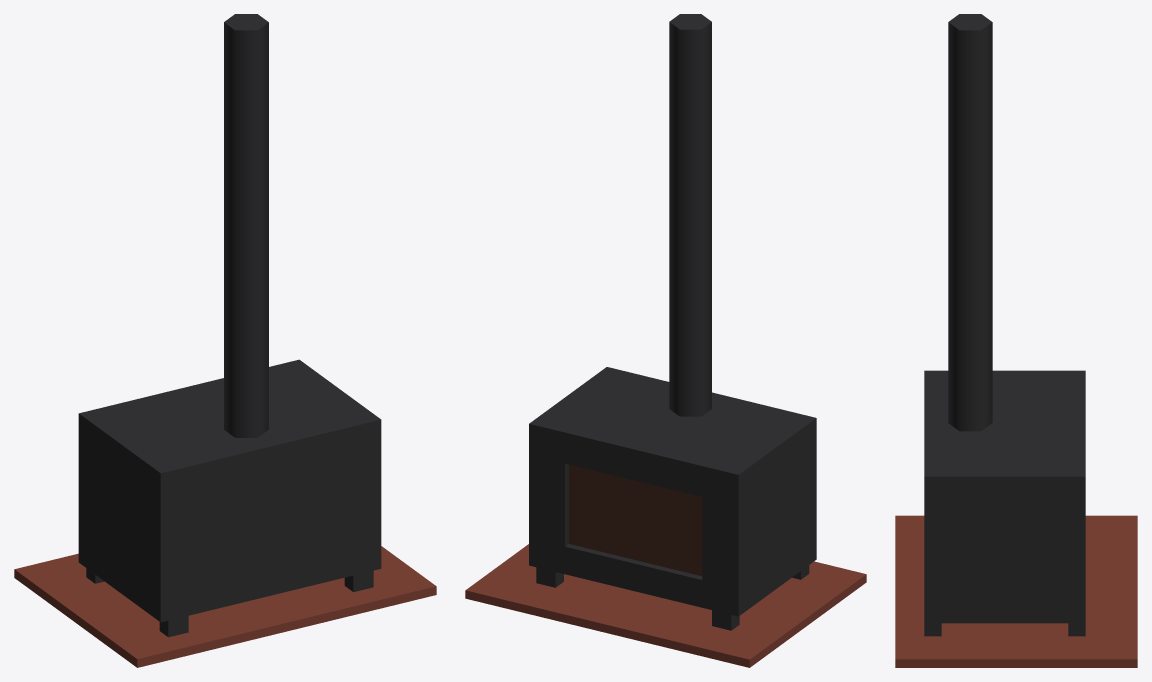
The model's file is wood-stove.glb.
3 views of the same model, side by side, from view 1: azimuth 30°, elevation 25°; view 2: azimuth 150°, elevation 25°; view 3: azimuth 270°, elevation 25° (orthographic). The views are drawn at different scales.
Parts seen in each view (by area): view 1: wood-stove; view 2: wood-stove; view 3: wood-stove.
Boxes of the visible parts, x1=… form: wood-stove: x1=14, y1=14, x2=436, y2=667; wood-stove: x1=465, y1=14, x2=866, y2=667; wood-stove: x1=895, y1=14, x2=1137, y2=667.
Bounding box in the file's own units: 4.3 × 8 × 3.06.
